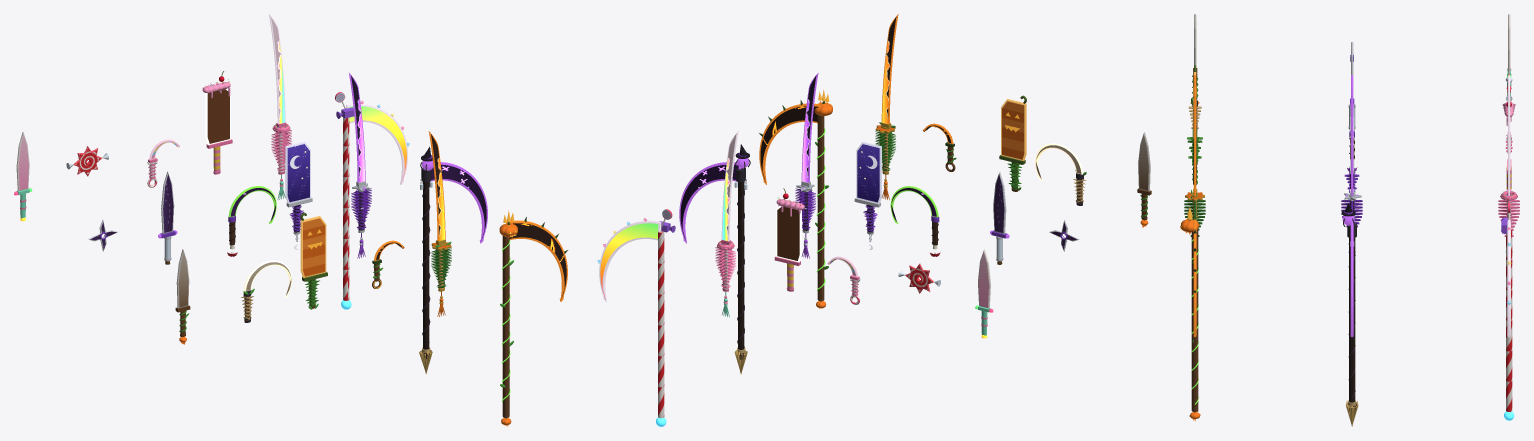
Rendered from Halloween_Knives.glb.
3 renders of one model, left to right at view 1: azimuth 30°, elevation 25°; view 2: azimuth 150°, elevation 25°; view 3: azimuth 270°, elevation 25°, orthographic.
Visible parts, largest first — view 1: glow_blade_0 (×7), blade_0 (×5), pole_5, pole_6, pole_1; view 2: glow_blade_0 (×7), blade_0 (×5), pole_5, pole_6, pole_1; view 3: glow_blade_0 (×6), pole_5, pole_6, pole_1.
Boxes of the visible parts, x1,y1,x2,y2 form: glow_blade_0 (×7): [269, 14, 567, 301]; blade_0 (×5): [16, 88, 326, 308]; pole_5: [502, 236, 509, 417]; pole_6: [343, 117, 349, 300]; pole_1: [423, 182, 429, 359]; glow_blade_0 (×7): [599, 14, 898, 302]; blade_0 (×5): [776, 99, 1150, 308]; pole_5: [817, 115, 824, 300]; pole_6: [658, 231, 664, 418]; pole_1: [738, 182, 744, 359]; glow_blade_0 (×6): [1193, 75, 1510, 337]; pole_5: [1191, 229, 1198, 412]; pole_6: [1506, 228, 1512, 411]; pole_1: [1349, 237, 1355, 411].
Bounding box in the file's own units: 2.61 × 1.99 × 1.95.
166 materials, 166 textured.
